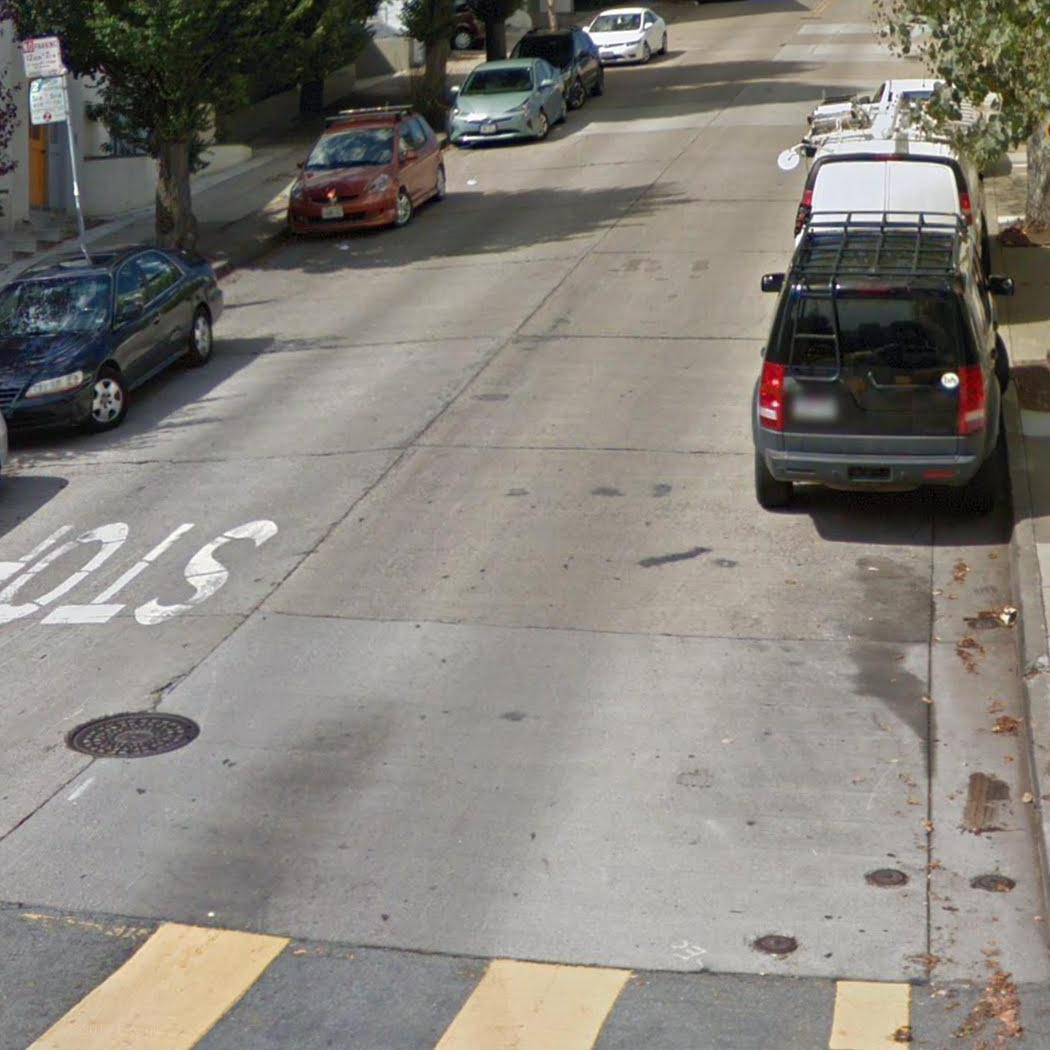2 Hour Parking: (27, 78, 71, 127)
No Parking: (19, 36, 66, 81)
